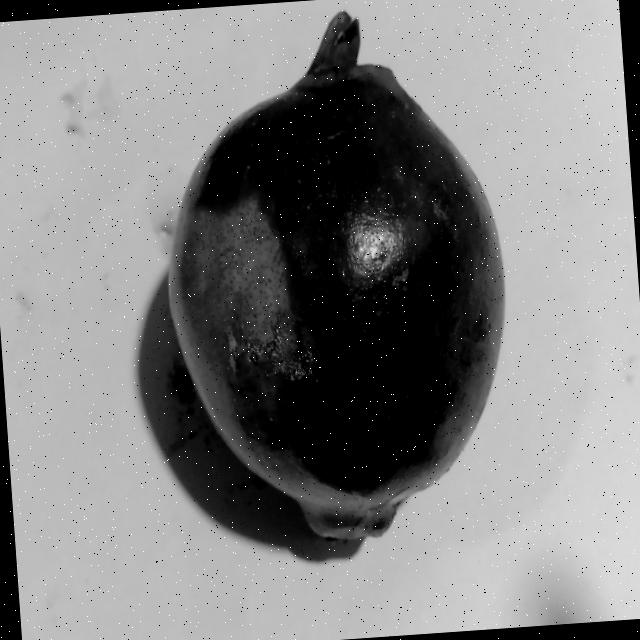Rotten: (142, 0, 525, 566)
